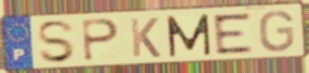E: (211, 10, 256, 56)
G: (258, 9, 296, 54)
K: (128, 17, 163, 59)
M: (164, 12, 213, 59)
P: (81, 17, 122, 63)
S: (35, 19, 77, 65)
